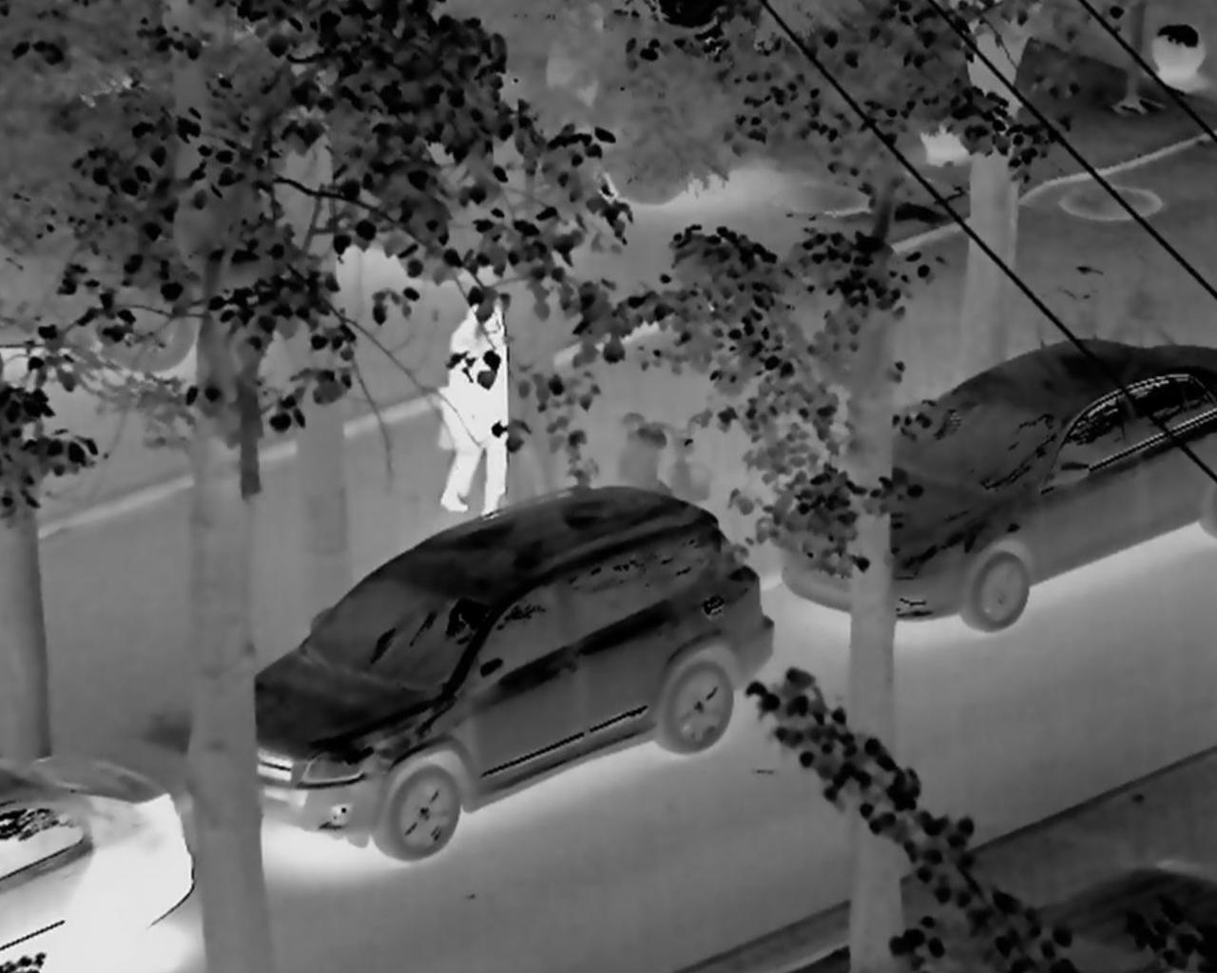person: (436, 290, 512, 521)
